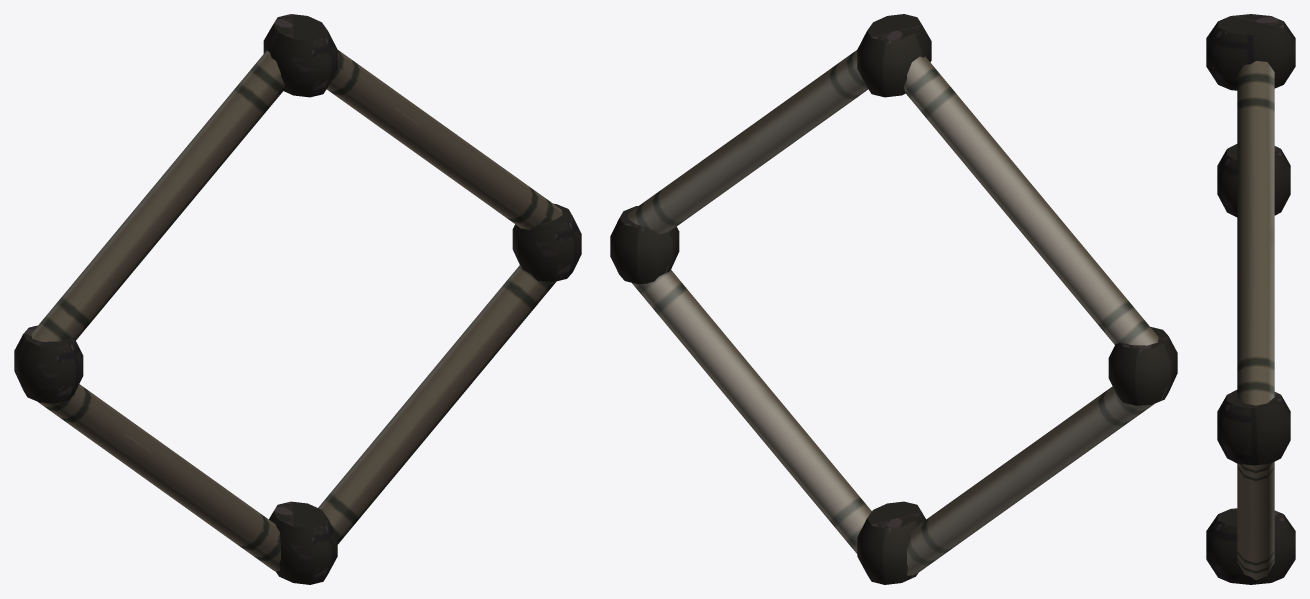
Rendered from Destructible.fbx.
The picture shows the model from 3 angles, left to right: view 1: azimuth 30°, elevation 25°; view 2: azimuth 150°, elevation 25°; view 3: azimuth 270°, elevation 25°; orthographic projection.
Visible parts, largest first — view 1: Destructible; view 2: Destructible; view 3: Destructible.
Boxes of the visible parts, box(x1,y1,x2,y2) form: Destructible: box(14, 14, 581, 584); Destructible: box(610, 14, 1177, 584); Destructible: box(1206, 14, 1295, 584).
Bounding box in the file's own units: 1967 × 1838 × 270.
1 material, 1 textured.
